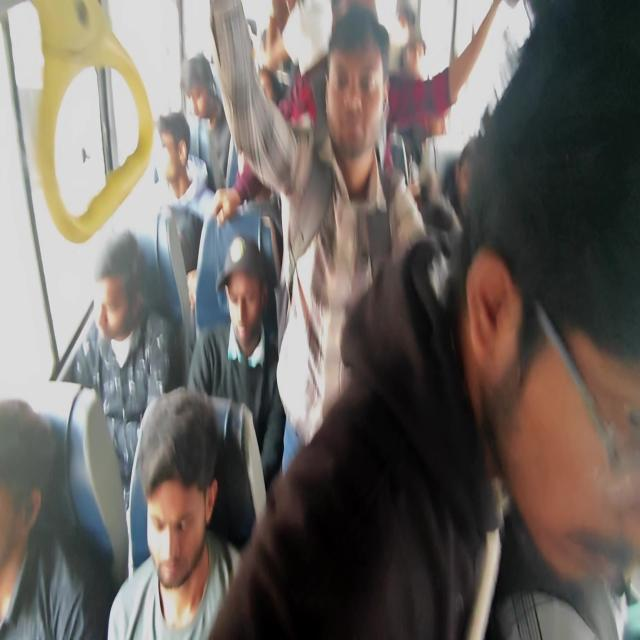person: (201, 1, 638, 637), (453, 0, 640, 638), (206, 239, 499, 638), (209, 0, 430, 478), (62, 228, 186, 577), (107, 386, 242, 638), (187, 234, 286, 490), (384, 0, 502, 185), (0, 397, 88, 638), (151, 110, 215, 324), (180, 52, 239, 192), (154, 110, 212, 214)
